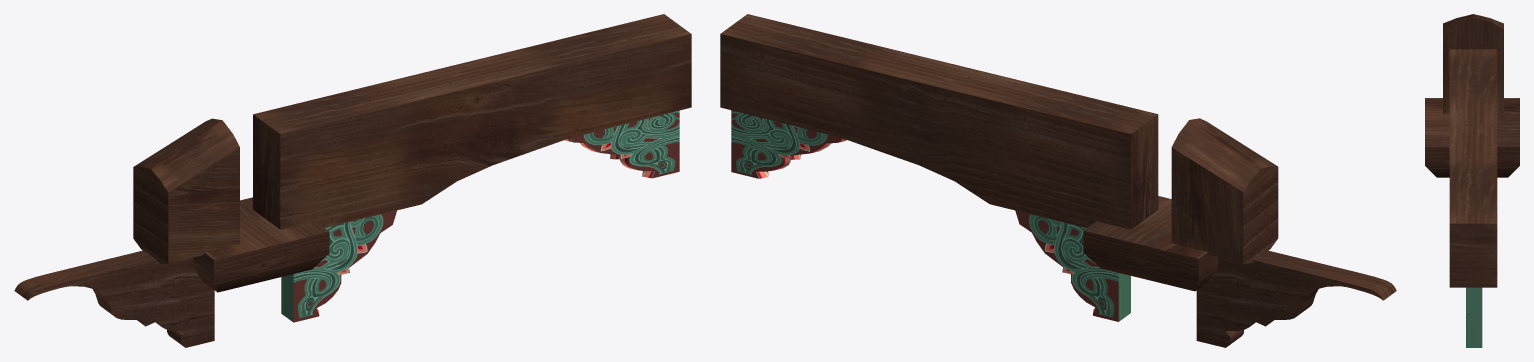
File: SM_R_Beam_37.fbx
3 views of the same model, side by side, from view 1: azimuth 30°, elevation 25°; view 2: azimuth 150°, elevation 25°; view 3: azimuth 270°, elevation 25° (orthographic). The views are drawn at different scales.
Parts seen in each view (by area): view 1: SM_R_Beam_37; view 2: SM_R_Beam_37; view 3: SM_R_Beam_37.
Part boxes in pixels (x1=…): SM_R_Beam_37: x1=14, y1=14, x2=691, y2=347; SM_R_Beam_37: x1=720, y1=14, x2=1396, y2=347; SM_R_Beam_37: x1=1425, y1=14, x2=1519, y2=347.
Size of the model in its own units: 259 by 37.18 by 80.45.
Materials: 5 (5 with a texture image).
